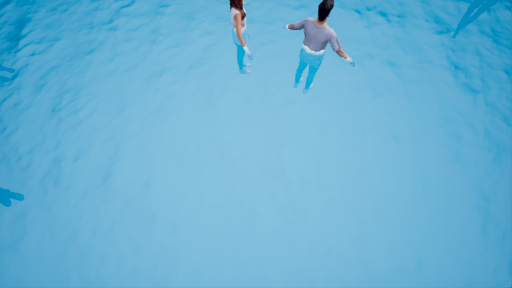person: (281, 4, 357, 96), (224, 3, 262, 69)
